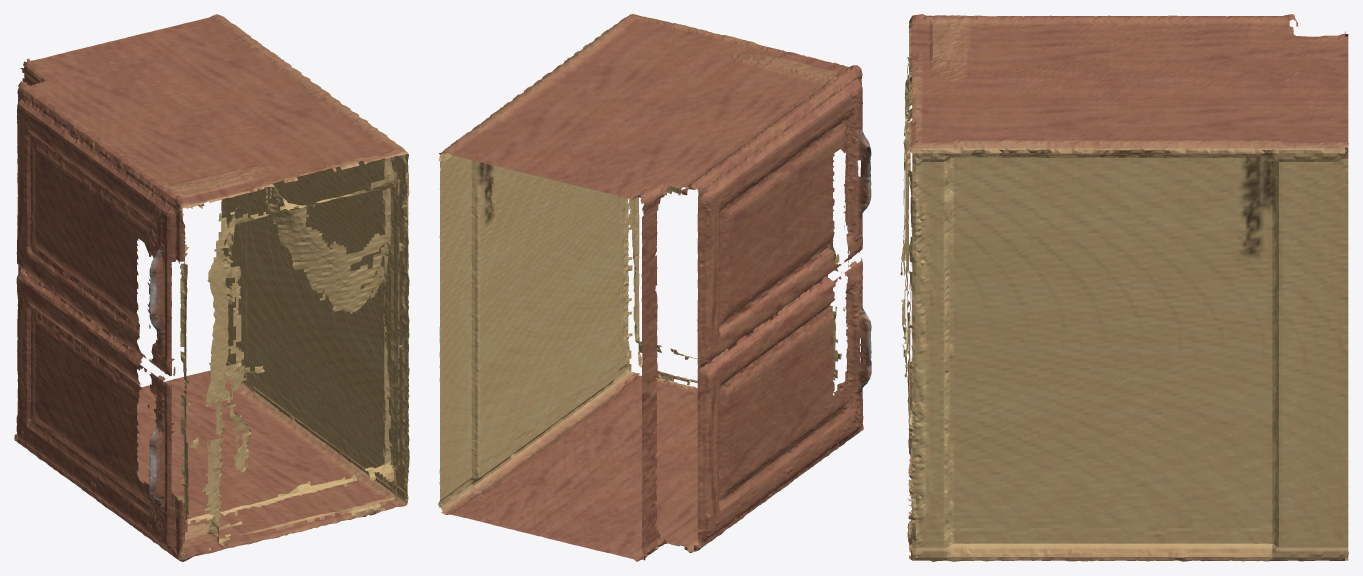
The model's file is cabinet_body_rest.obj.
The picture shows the model from 3 angles, left to right: view 1: azimuth 30°, elevation 25°; view 2: azimuth 150°, elevation 25°; view 3: azimuth 270°, elevation 25°; orthographic projection. The views are drawn at different scales.
Size of the model in its own units: 0.9766 by 1.35 by 1.3.
